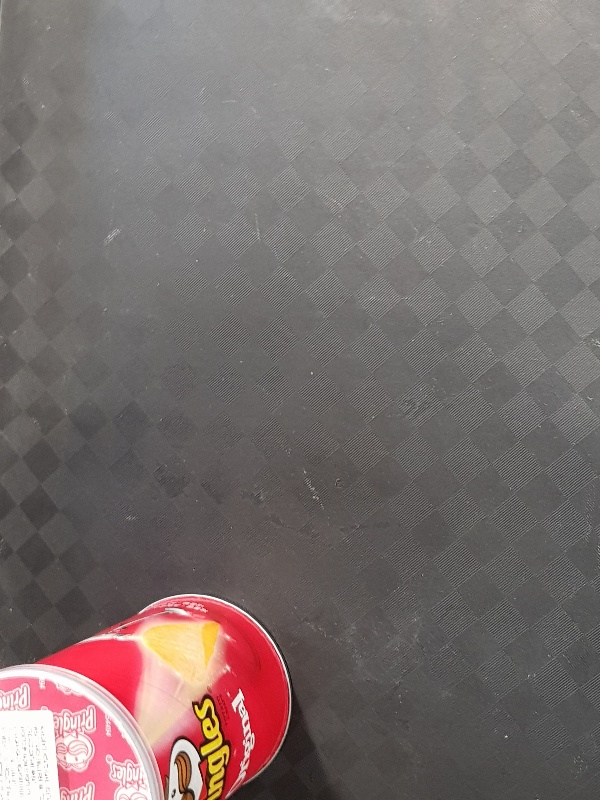Pringles Original: (1, 591, 293, 800)
